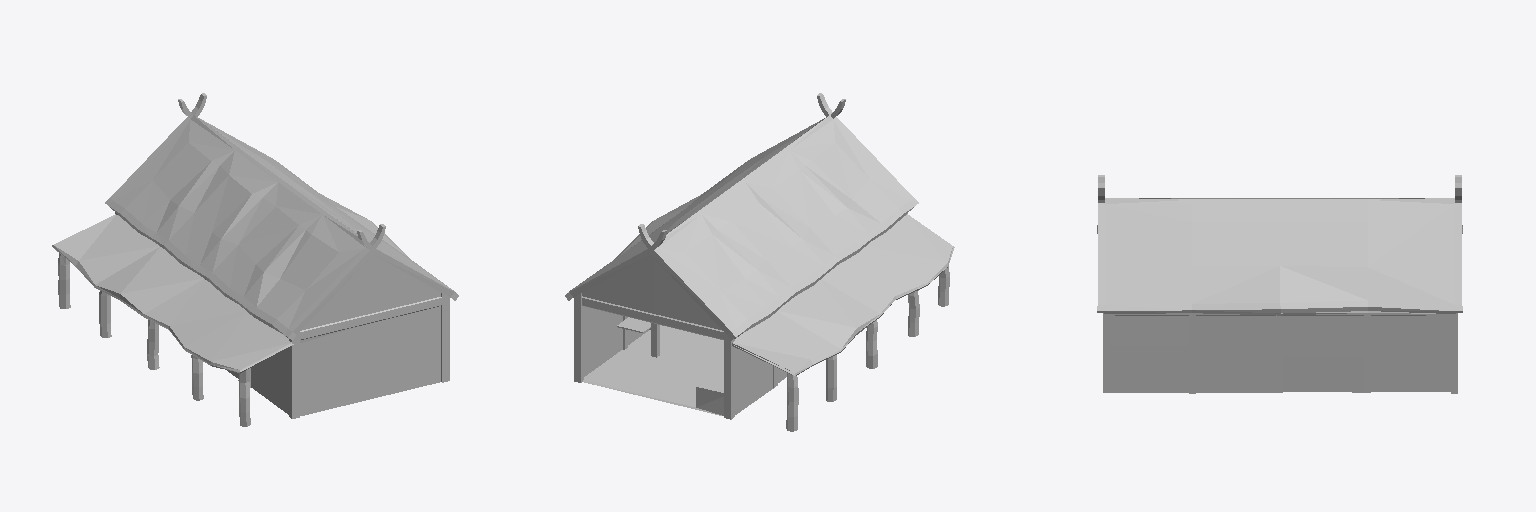
File: Storehouse_LOD01.obj
3 renders of one model, left to right at view 1: azimuth 30°, elevation 25°; view 2: azimuth 150°, elevation 25°; view 3: azimuth 270°, elevation 25°, orthographic.
Parts seen in each view (by area): view 1: Storehouse_LOD01; view 2: Storehouse_LOD01; view 3: Storehouse_LOD01.
Boxes of the visible parts, <box> form: Storehouse_LOD01: <box>52,93,458,426</box>; Storehouse_LOD01: <box>565,93,954,431</box>; Storehouse_LOD01: <box>1097,175,1462,393</box>.
Bounding box in the file's own units: 7.77 × 5.48 × 10.45.